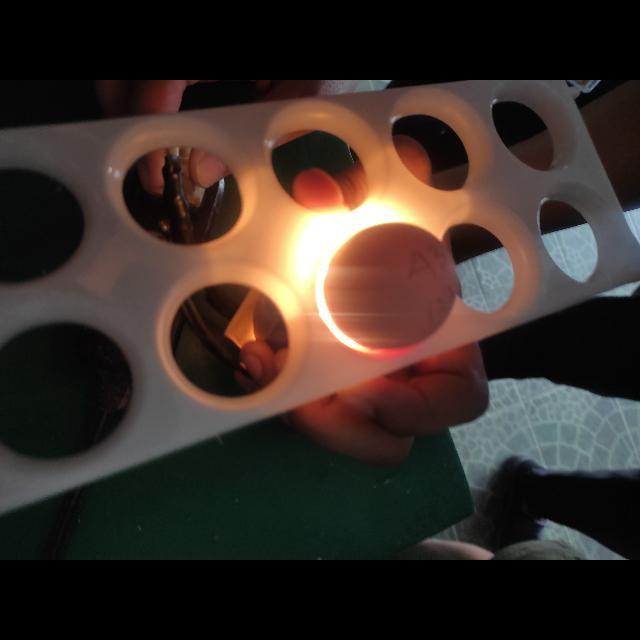Fertile: (320, 218, 458, 356)
